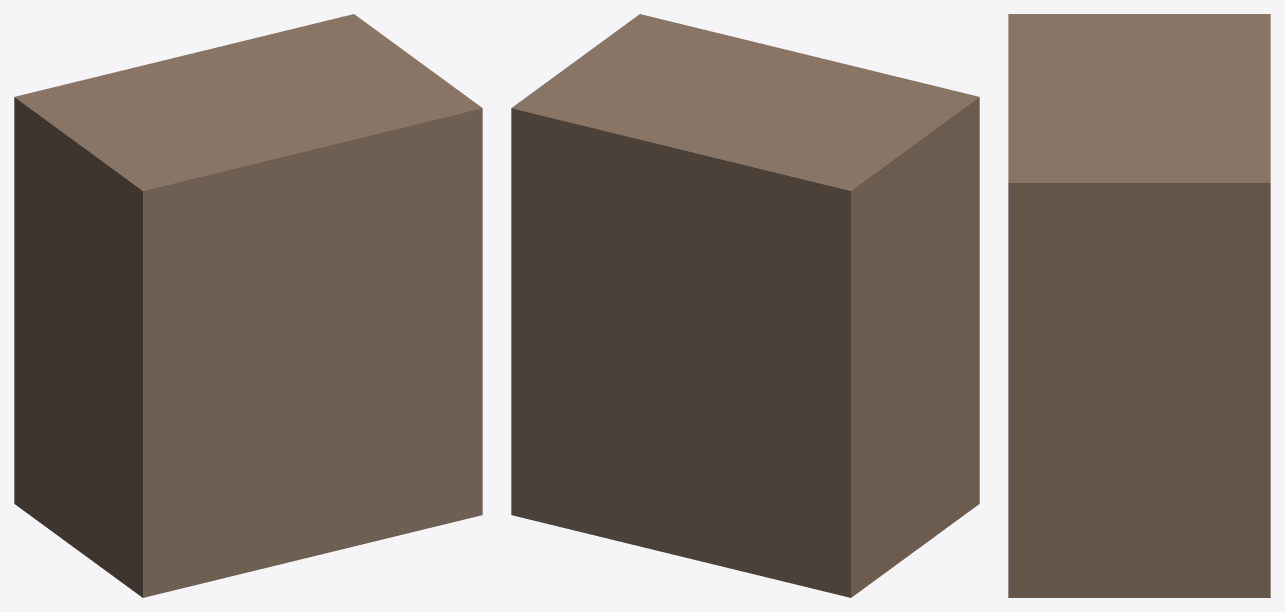
The model's file is prop_seonangdang_lod2.glb.
3 renders of one model, left to right at view 1: azimuth 30°, elevation 25°; view 2: azimuth 150°, elevation 25°; view 3: azimuth 270°, elevation 25°, orthographic.
Visible parts, largest first — view 1: prop_seonangdang_lod2; view 2: prop_seonangdang_lod2; view 3: prop_seonangdang_lod2.
Boxes of the visible parts, x1,y1,x2,y2 form: prop_seonangdang_lod2: (14, 14, 482, 597); prop_seonangdang_lod2: (511, 14, 979, 597); prop_seonangdang_lod2: (1008, 14, 1270, 597).
Size of the model in its own units: 5.7 by 6.52 by 3.74.
